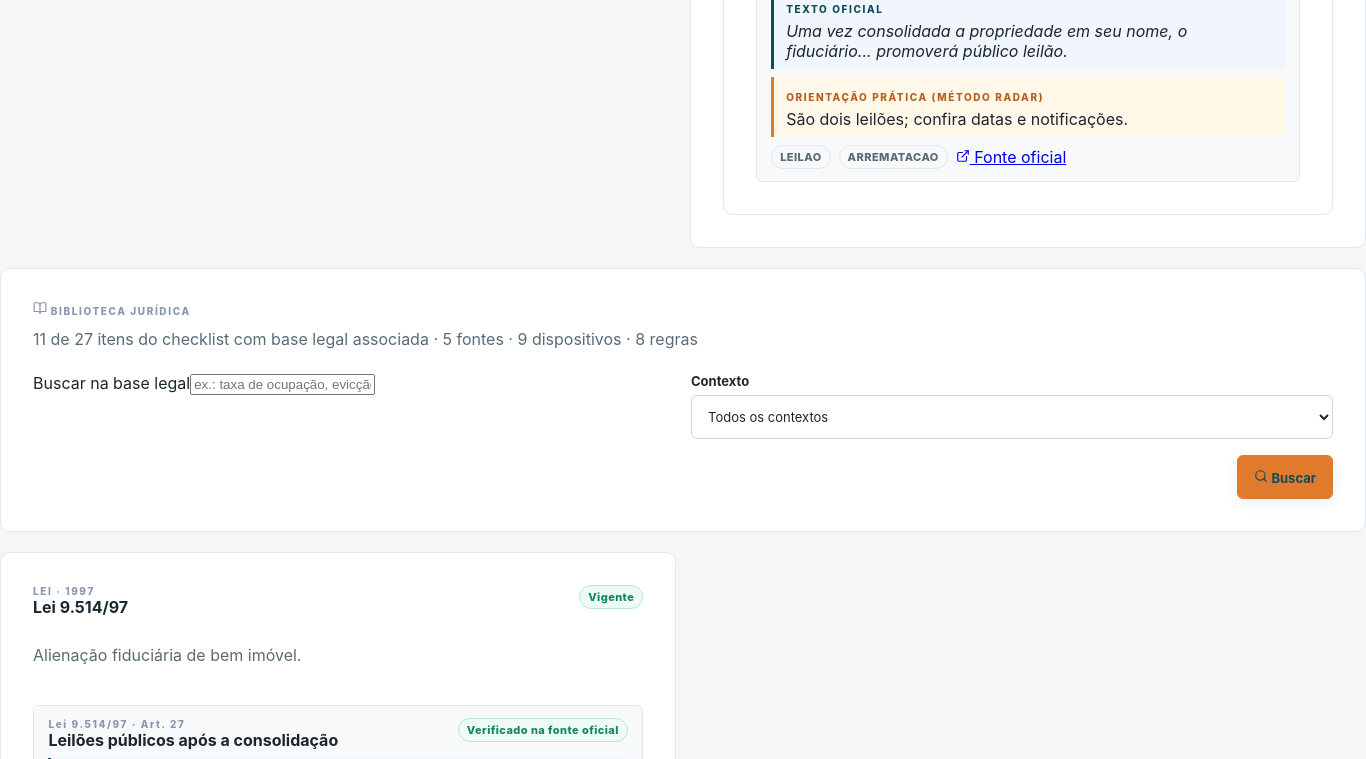
Test case: CentralJuridicaSection › faz busca textual na biblioteca
The image size is (1366, 759).
(page scrolled)
Expected: the text "BIBLIOTECA JURÍDICA" is shown, [33,301,191,317]
In the field with placeholder "ex.: taxa de ocupação, evicção, dois leilões": (283,385) [190,374,375,395], type "leilões"
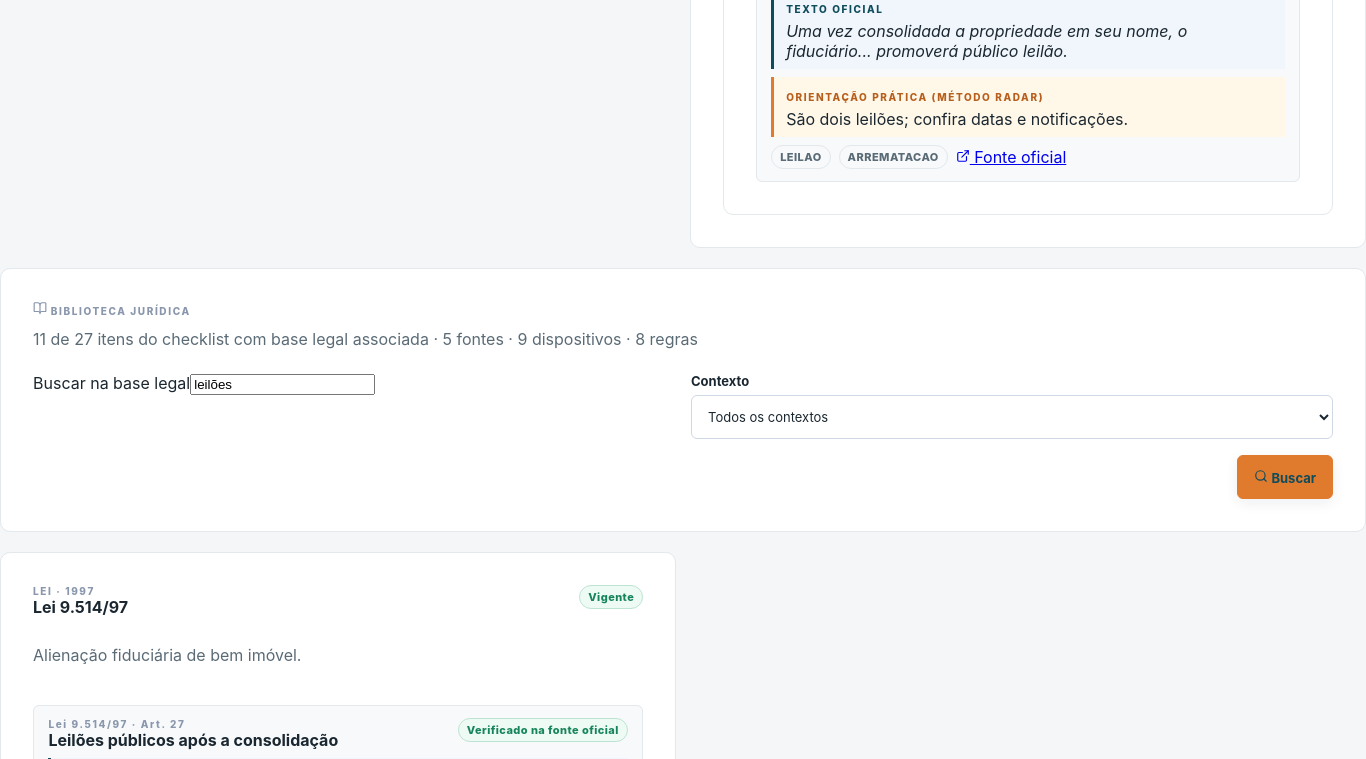
Click the button "Buscar": (1285,478) [1237,456,1333,500]
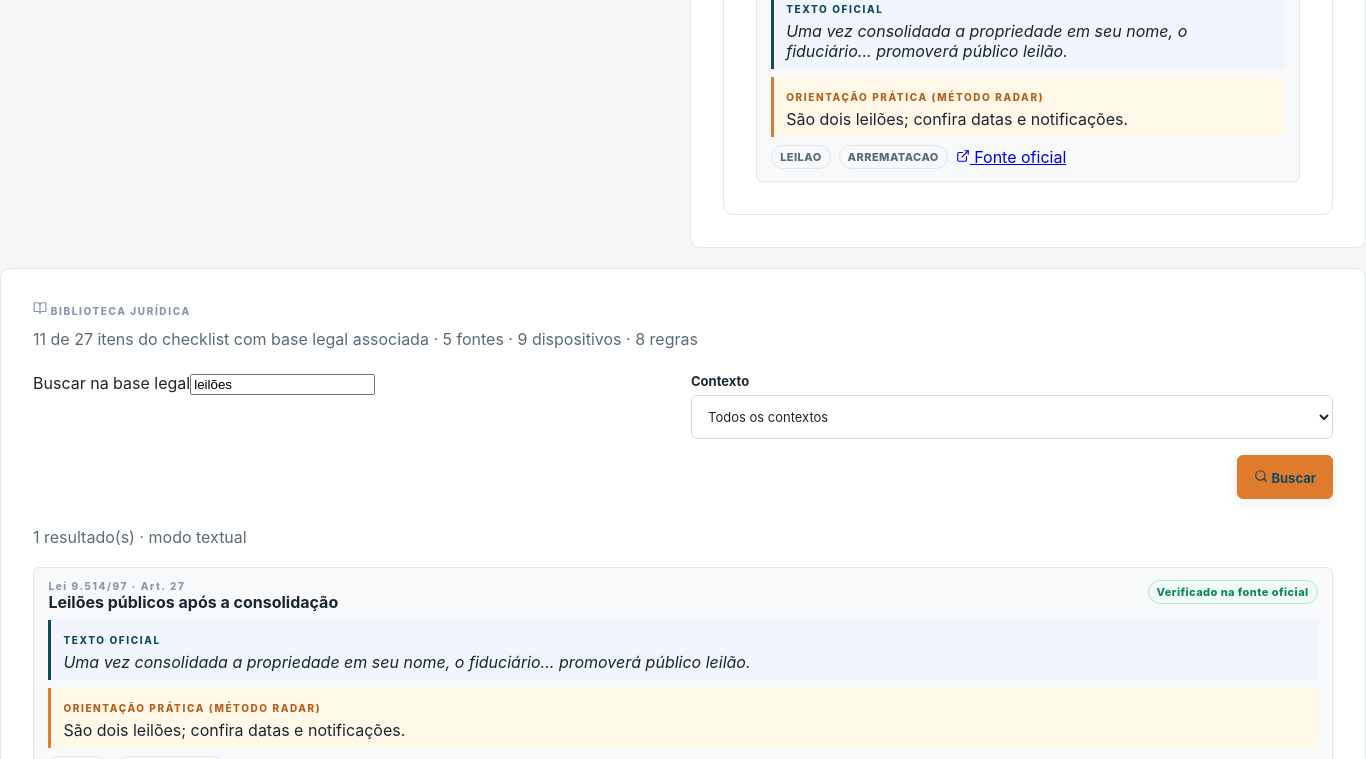
Result: the text "1 resultado(s) · modo textual" is shown at [33,528,247,548]
